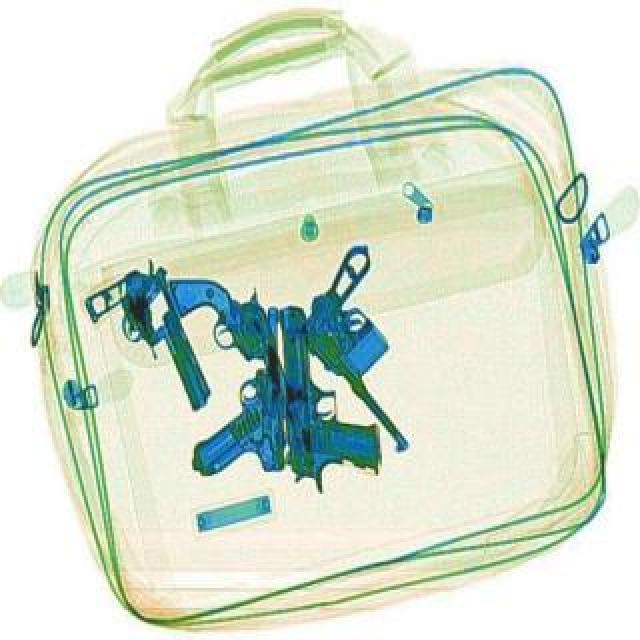gun: (268, 240, 490, 454), (160, 256, 314, 480), (78, 256, 218, 430), (278, 300, 382, 494), (190, 302, 286, 474)
